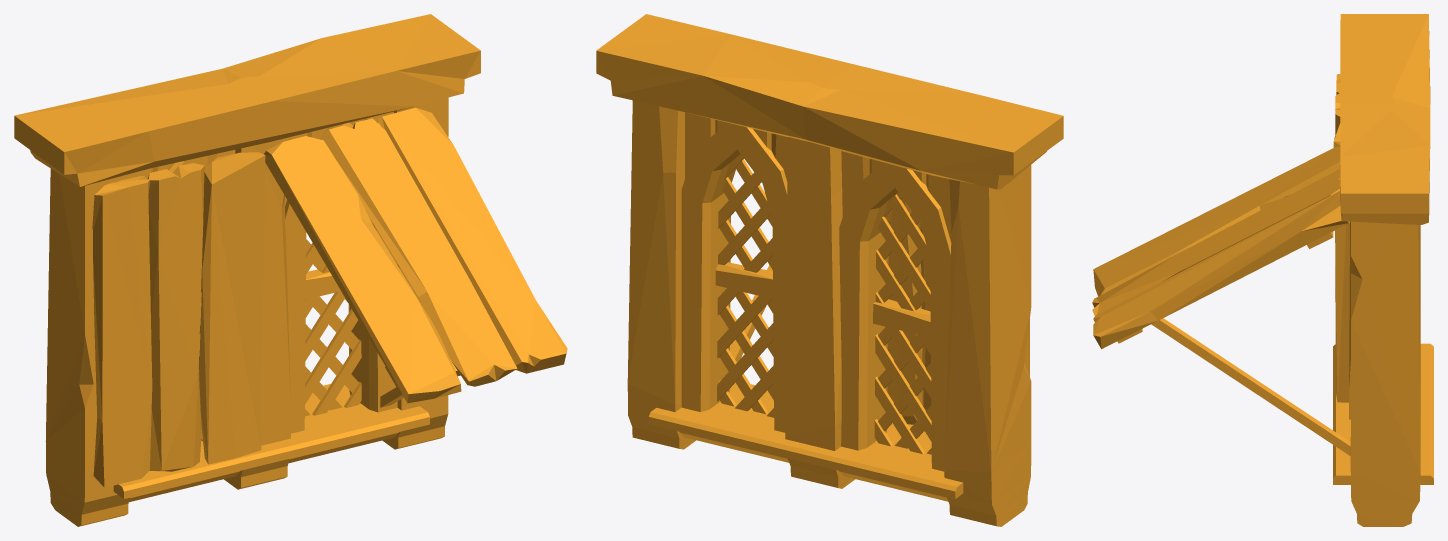
Rendered from SM_Window_Wood_Big_Shut_B_Fantasy.fbx.
3 renders of one model, left to right at view 1: azimuth 30°, elevation 25°; view 2: azimuth 150°, elevation 25°; view 3: azimuth 270°, elevation 25°, orthographic. The views are drawn at different scales.
Visible parts, largest first — view 1: SM_Window_Wood_Big_Shut_B_Fantasy; view 2: SM_Window_Wood_Big_Shut_B_Fantasy; view 3: SM_Window_Wood_Big_Shut_B_Fantasy.
Boxes of the visible parts, x1,y1,x2,y2 form: SM_Window_Wood_Big_Shut_B_Fantasy: (14,14,567,526); SM_Window_Wood_Big_Shut_B_Fantasy: (596,14,1063,526); SM_Window_Wood_Big_Shut_B_Fantasy: (1092,14,1433,526).
Size of the model in its own units: 2.48 by 2.23 by 1.99.
